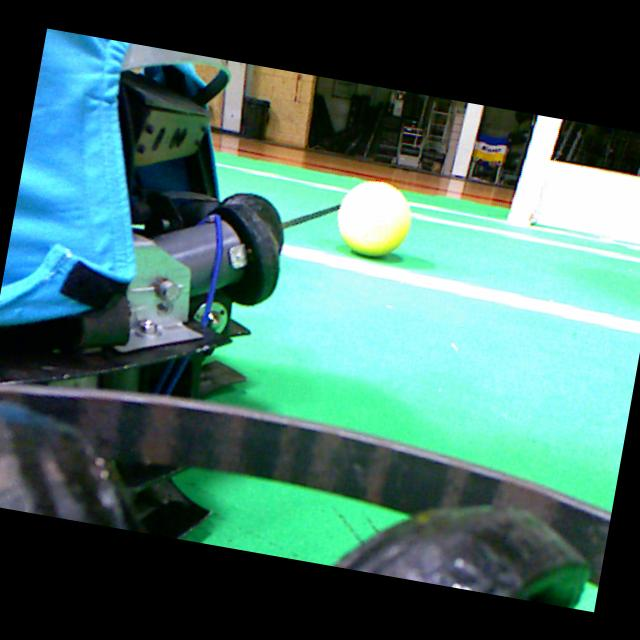ball: (337, 181, 410, 256)
goal: (506, 115, 561, 226)
